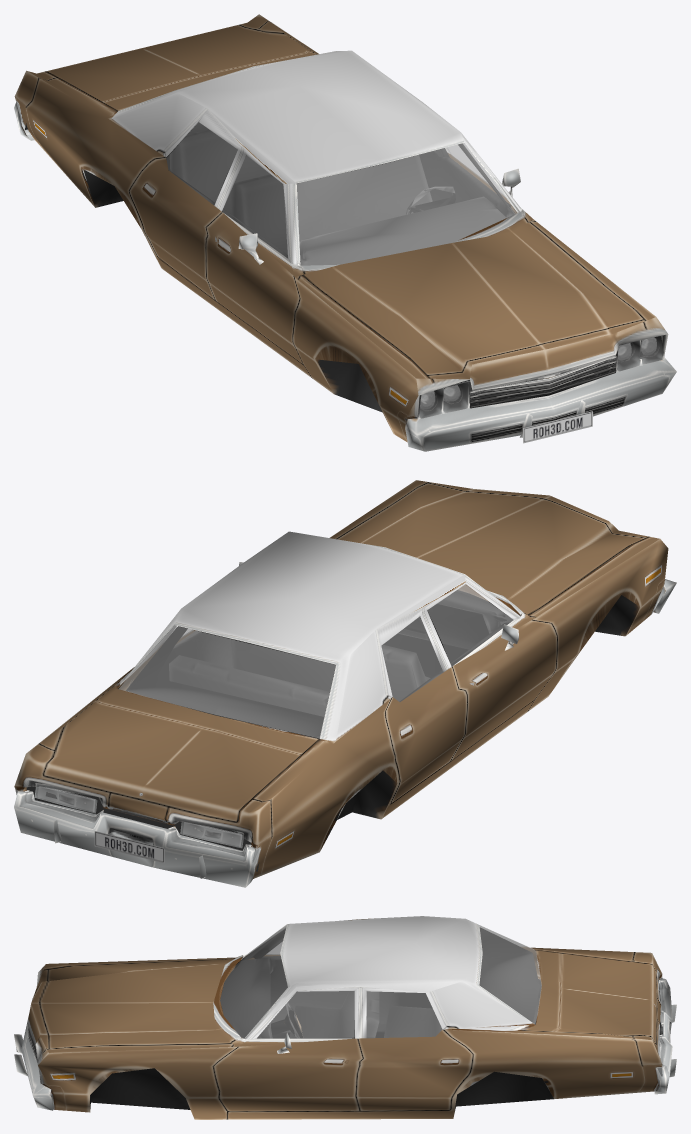
File: chassis_d1.obj
The picture shows the model from 3 angles, top to bottom: view 1: azimuth 30°, elevation 25°; view 2: azimuth 150°, elevation 25°; view 3: azimuth 270°, elevation 25°; orthographic projection. The views are drawn at different scales.
Parts seen in each view (by area): view 1: Body, Glass; view 2: Body, Glass; view 3: Body, Glass.
Boxes of the visible parts, x1,y1,x2,y2 form: Body: [14, 14, 676, 451]; Glass: [128, 100, 656, 409]; Body: [14, 480, 676, 887]; Glass: [37, 584, 513, 847]; Body: [14, 916, 676, 1119]; Glass: [220, 925, 659, 1054].
Bounding box in the file's own units: 210 × 127 × 563.
Materials: 2 (1 with a texture image).
